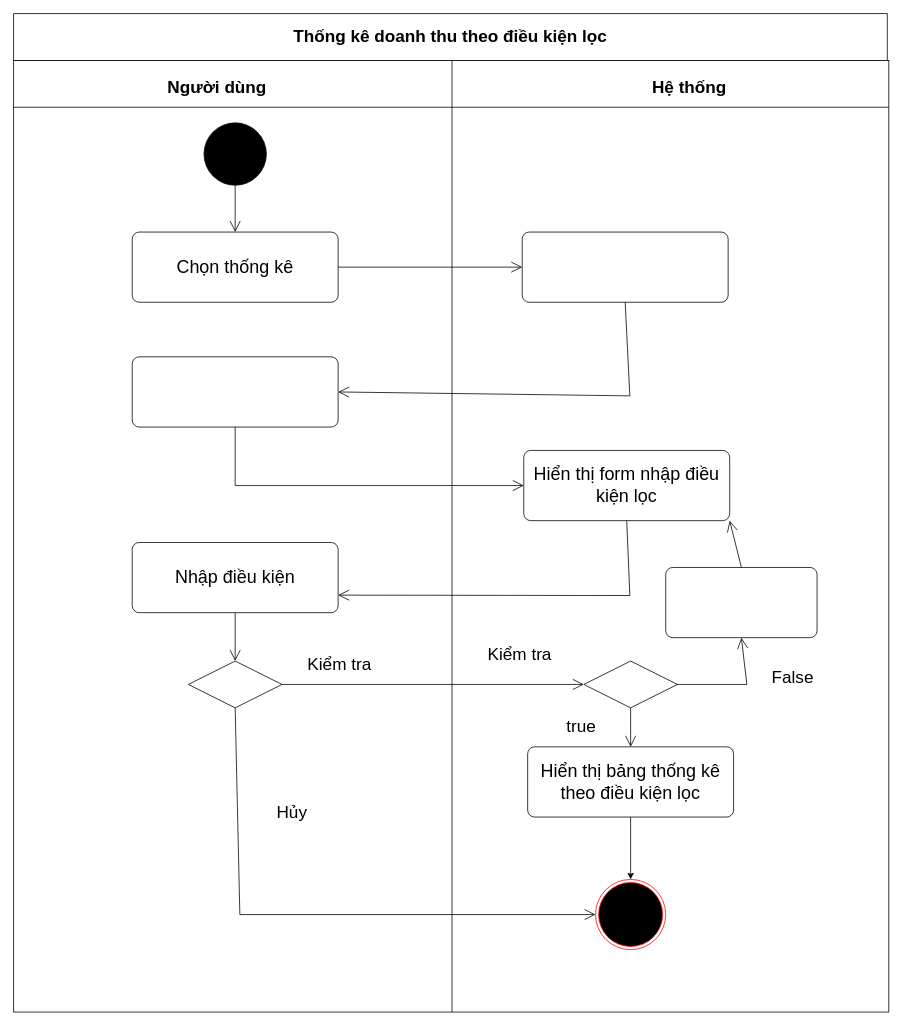
This 902x1026 diagram has some shape labels left out. The shapes that lost their labels are listed below. From the top down, each one's centre as x and y in pixels, then its label:
[624,266]: Hiển thị trang thống kê tổng doanh số
[234,391]: Chọn lọc
[741,602]: Thông báo lỗi
